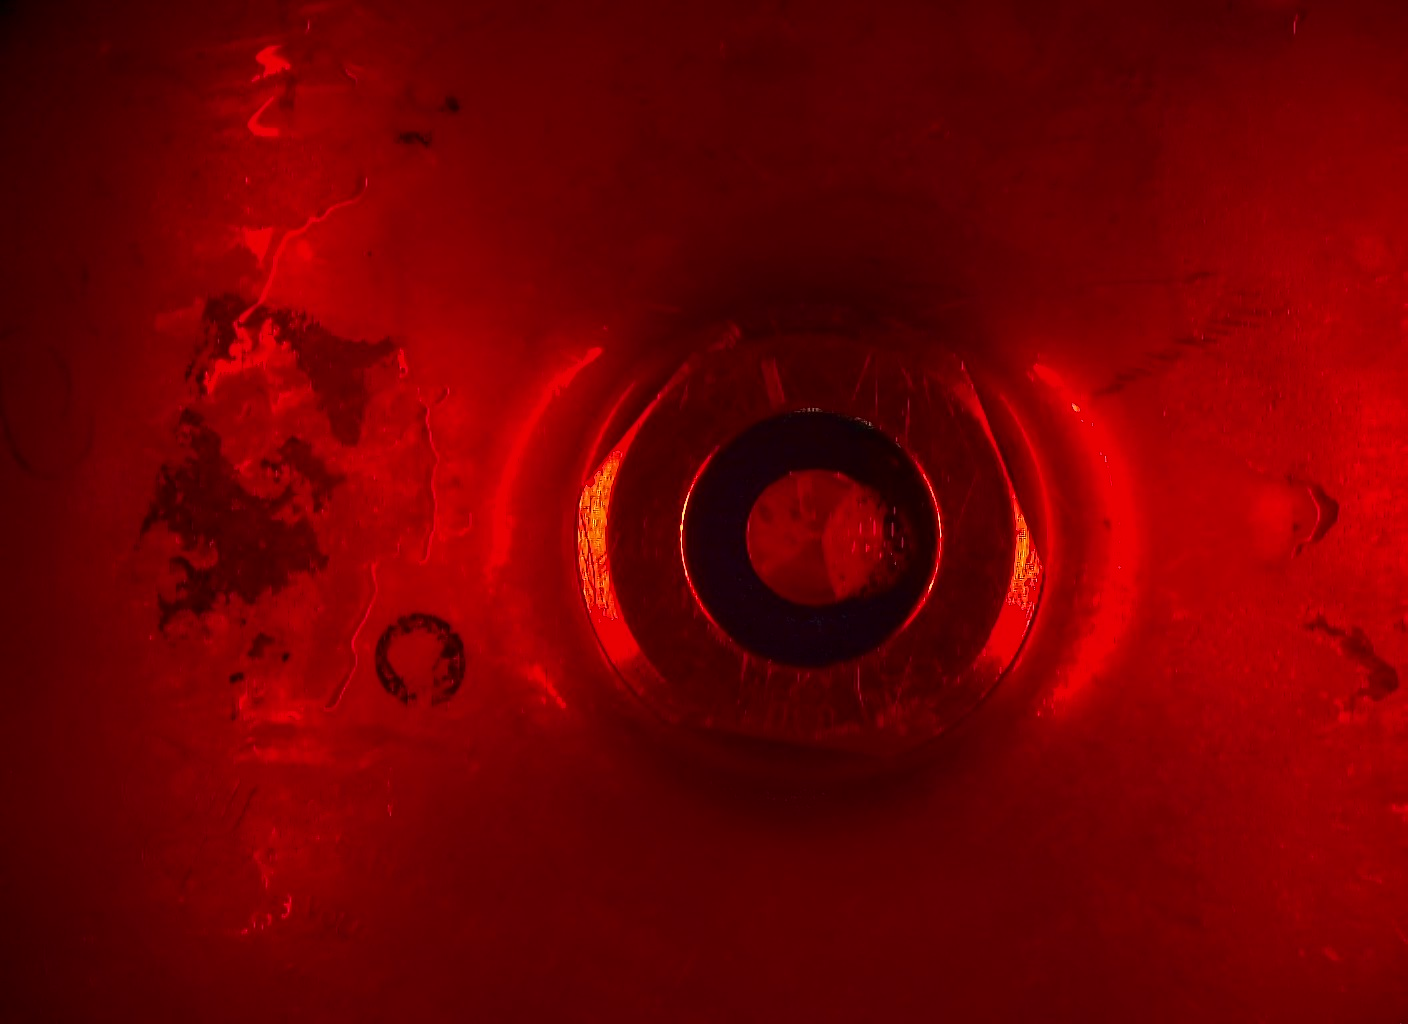pena: (821, 475, 913, 610)
